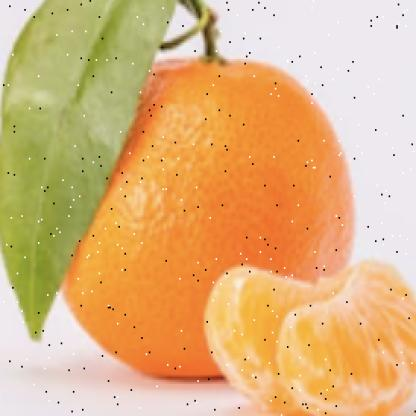fresh: (45, 39, 359, 383)
